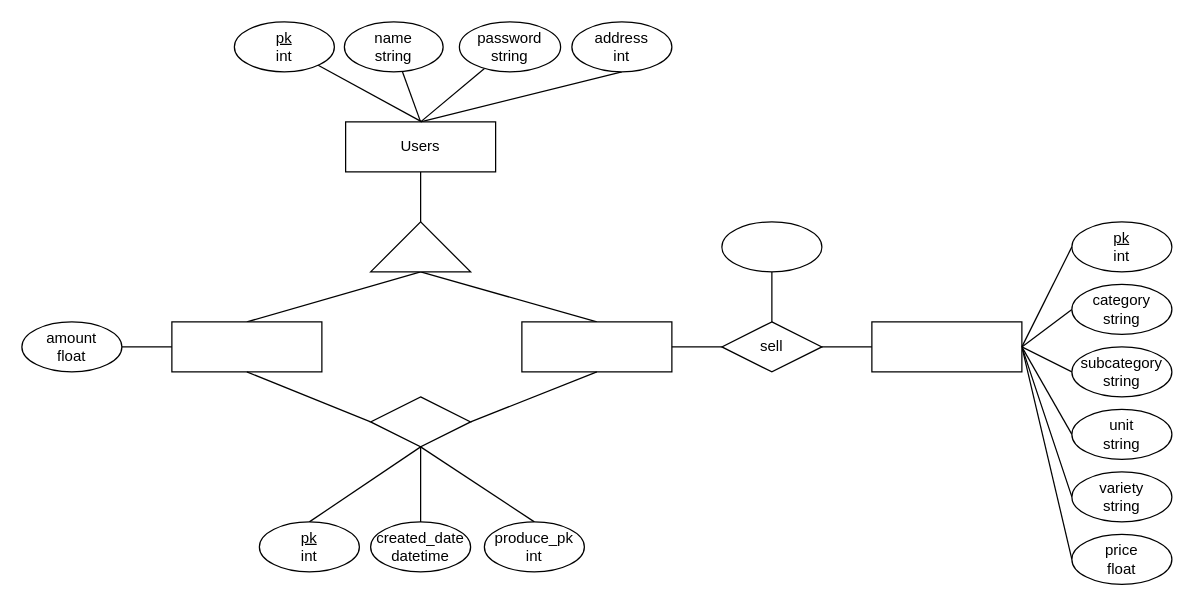
The diagram is 1194 pixels wide and 606 high, and some of its shapes have lost their labels. The box of each missing label's shape, as (x1, y1, x2, y2) in pixels:
available bool: (721, 221, 822, 272)
Customer: (171, 321, 322, 372)
Farmer: (521, 321, 672, 372)
ISA: (369, 221, 471, 272)
order: (369, 396, 471, 447)
Produce: (871, 321, 1022, 372)
